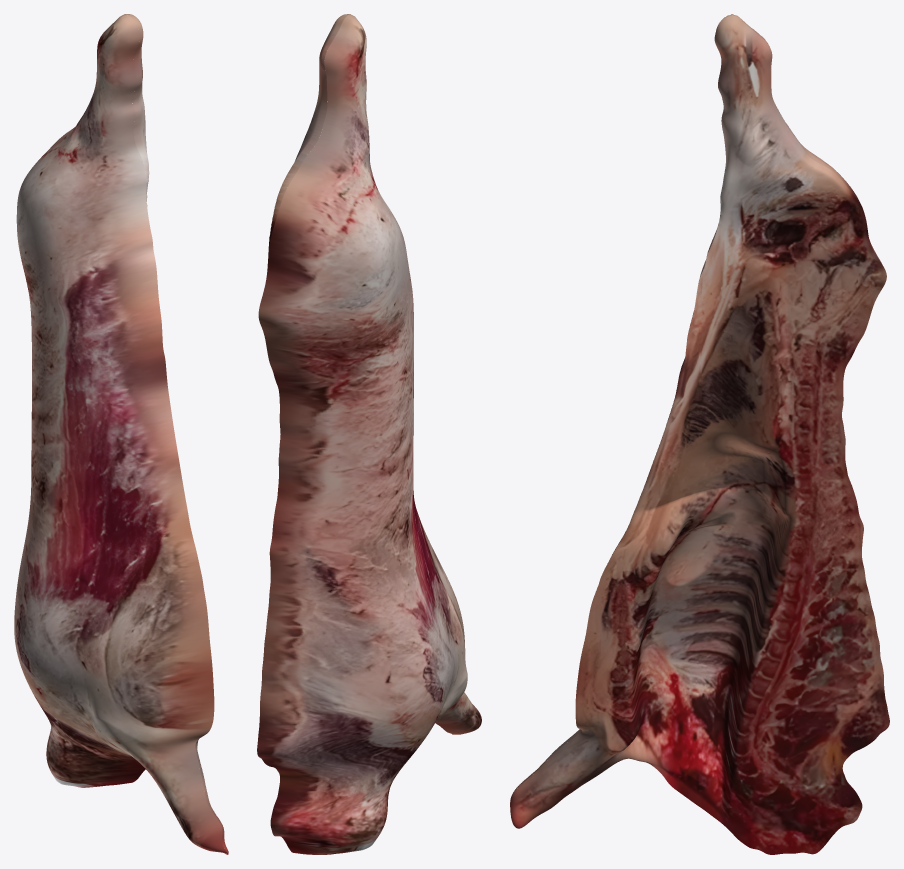
Rendered from demi_carcasse_boeuf_v24.glb.
3 views of the same model, side by side, from view 1: azimuth 30°, elevation 25°; view 2: azimuth 150°, elevation 25°; view 3: azimuth 270°, elevation 25° (orthographic). The views are drawn at different scales.
Parts seen in each view (by area): view 1: face_exterieure, face_de_fente; view 2: face_exterieure, face_de_fente; view 3: face_de_fente, face_exterieure.
Boxes of the visible parts, x1,y1,x2,y2 form: face_exterieure: [14, 14, 228, 854]; face_de_fente: [126, 14, 228, 853]; face_exterieure: [257, 14, 481, 854]; face_de_fente: [268, 14, 452, 734]; face_de_fente: [510, 15, 889, 854]; face_exterieure: [513, 14, 882, 792].
Bounding box in the file's own units: 0.4163 × 2.5 × 1.03.
Materials: 2 (2 with a texture image).
